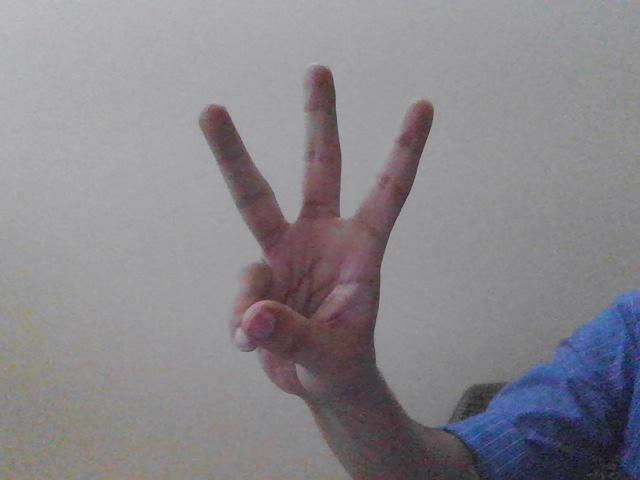W: (191, 62, 438, 399)
